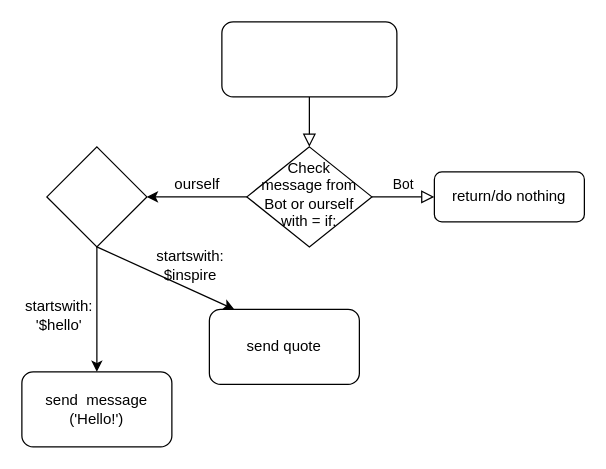
Image size: 606x469. Some labels were removed from this diagram. The centre of each missing label's shape, as x and y in pixels:
"Check content" goes at (x=96, y=196).
"Start print('We have logged in as {0.user}'.format(client))" goes at (x=309, y=59).
